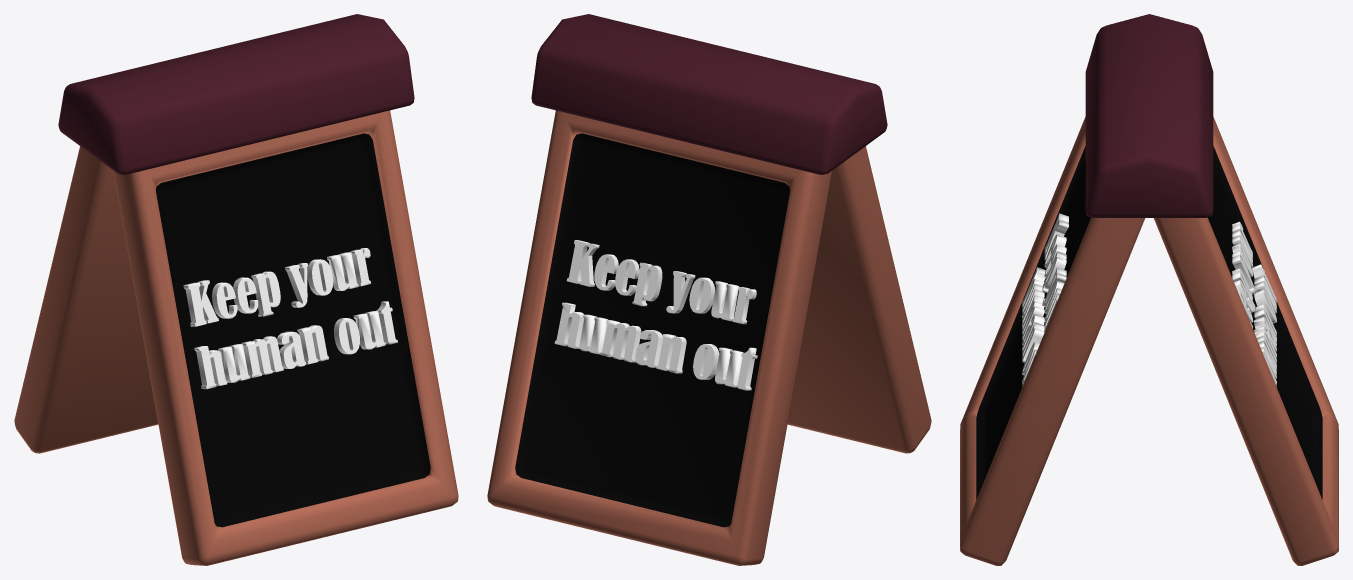
File: Sign_w_Text_Outside.glb
The picture shows the model from 3 angles, left to right: view 1: azimuth 30°, elevation 25°; view 2: azimuth 150°, elevation 25°; view 3: azimuth 270°, elevation 25°; orthographic projection.
Visible parts, largest first — view 1: Sign_w_Text_Outside; view 2: Sign_w_Text_Outside; view 3: Sign_w_Text_Outside.
Boxes of the visible parts, <box> form: Sign_w_Text_Outside: <box>14,14,458,565</box>; Sign_w_Text_Outside: <box>487,14,931,565</box>; Sign_w_Text_Outside: <box>960,14,1338,565</box>.
Bounding box in the file's own units: 0.4001 × 0.5437 × 0.4414.
1 material, 1 textured.
